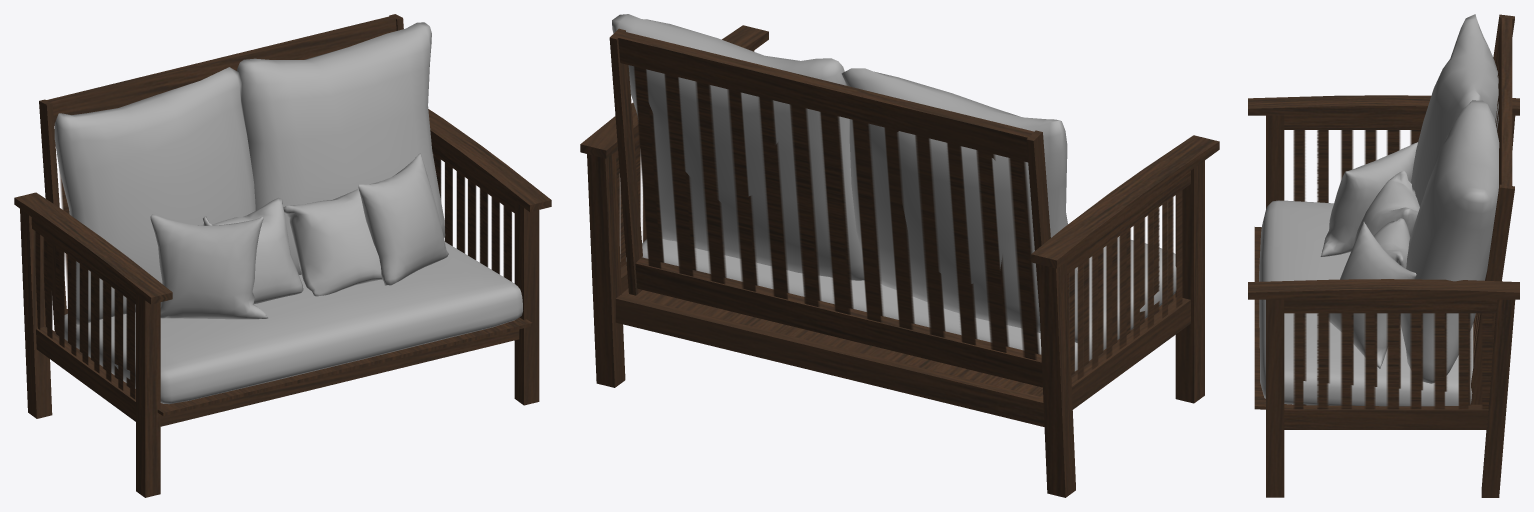
The picture shows the model from 3 angles, left to right: view 1: azimuth 30°, elevation 25°; view 2: azimuth 150°, elevation 25°; view 3: azimuth 270°, elevation 25°; orthographic projection. The views are drawn at different scales.
Parts seen in each view (by area): view 1: Box005__cojines_demueblerallalowdefaultMat_0, Box005_Material #21_0; view 2: Box005_Material #21_0, Box005__cojines_demueblerallalowdefaultMat_0; view 3: Box005_Material #21_0, Box005__cojines_demueblerallalowdefaultMat_0.
Part boxes in pixels (x1,y1,x2,y2): Box005__cojines_demueblerallalowdefaultMat_0: (54, 22, 522, 403); Box005_Material #21_0: (14, 14, 551, 497); Box005_Material #21_0: (580, 25, 1219, 497); Box005__cojines_demueblerallalowdefaultMat_0: (612, 14, 1176, 371); Box005_Material #21_0: (1248, 14, 1519, 497); Box005__cojines_demueblerallalowdefaultMat_0: (1259, 14, 1499, 406).
Bounding box in the file's own units: 1.54 × 1.13 × 0.9094.
2 materials, 2 textured.
